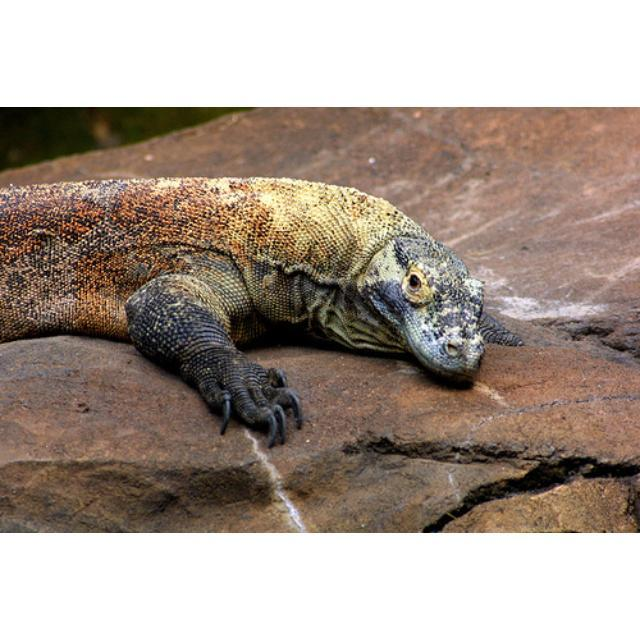KomodoDragon: (3, 170, 518, 454)
